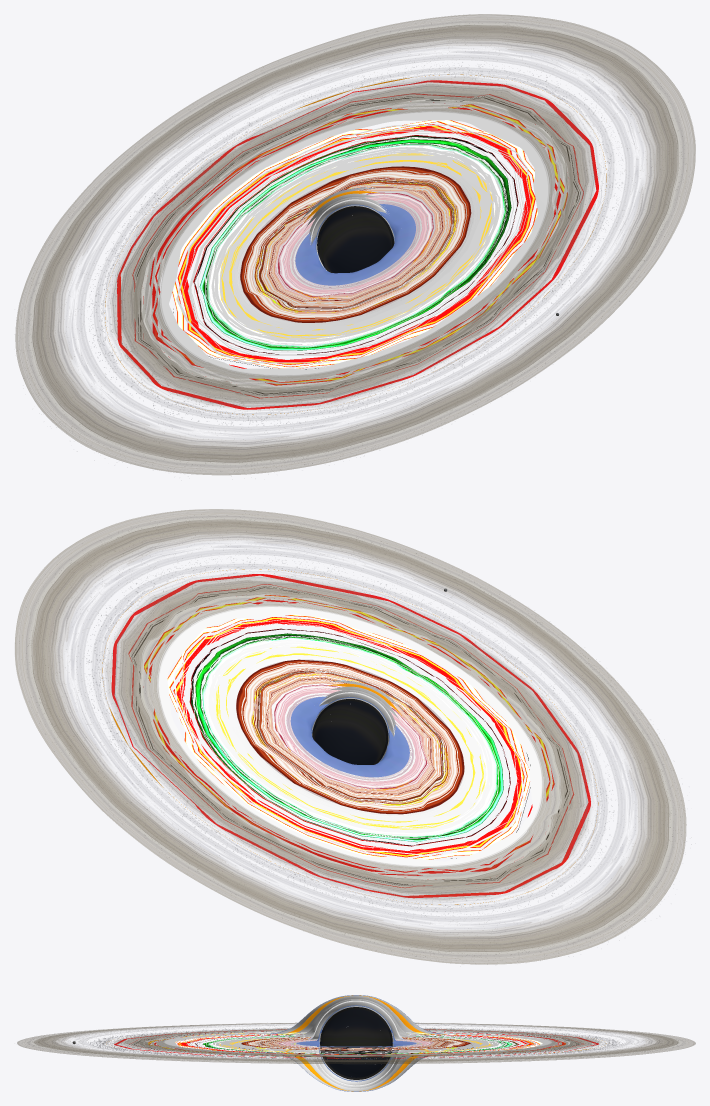
File: black-hole.glb
3 views of the same model, one above another, from view 1: azimuth 30°, elevation 25°; view 2: azimuth 150°, elevation 25°; view 3: azimuth 270°, elevation 25° (orthographic). The views are drawn at different scales.
Visible parts, largest first — view 1: black hole_ring_ring_0, black hole_black hole blackoutside_0, black hole_black hole light3_0, black hole_black hole light2_0, black hole_black hole center_0, black hole_black hole light1_0; view 2: black hole_ring_ring_0, black hole_black hole blackoutside_0, black hole_black hole light3_0, black hole_black hole light2_0, black hole_black hole center_0, black hole_black hole light1_0; view 3: black hole_ring_ring_0, black hole_black hole blackoutside_0, black hole_black hole light3_0, black hole_black hole center_0, black hole_black hole light2_0, black hole_black hole light1_0, black hole_ring_ring2_0.
Boxes of the visible parts, <box> form: black hole_ring_ring_0: <box>15,14,695,475</box>; black hole_black hole blackoutside_0: <box>133,94,576,394</box>; black hole_black hole light3_0: <box>104,74,606,414</box>; black hole_black hole light2_0: <box>240,166,471,322</box>; black hole_black hole center_0: <box>317,206,394,273</box>; black hole_black hole light1_0: <box>295,187,415,285</box>; black hole_ring_ring_0: <box>15,509,686,964</box>; black hole_black hole blackoutside_0: <box>131,588,569,885</box>; black hole_black hole light3_0: <box>102,569,598,904</box>; black hole_black hole light2_0: <box>236,659,464,814</box>; black hole_black hole center_0: <box>312,699,388,764</box>; black hole_black hole light1_0: <box>290,680,409,777</box>; black hole_ring_ring_0: <box>17,1023,695,1063</box>; black hole_black hole blackoutside_0: <box>135,995,577,1091</box>; black hole_black hole light3_0: <box>106,995,606,1091</box>; black hole_black hole center_0: <box>320,1007,392,1079</box>; black hole_black hole light2_0: <box>241,1000,471,1086</box>; black hole_black hole light1_0: <box>246,995,475,1091</box>; black hole_ring_ring2_0: <box>88,1028,622,1059</box>.
Size of what is drawn, in the model's own units: 3098 by 1220 by 3298.
8 materials, 7 textured.
